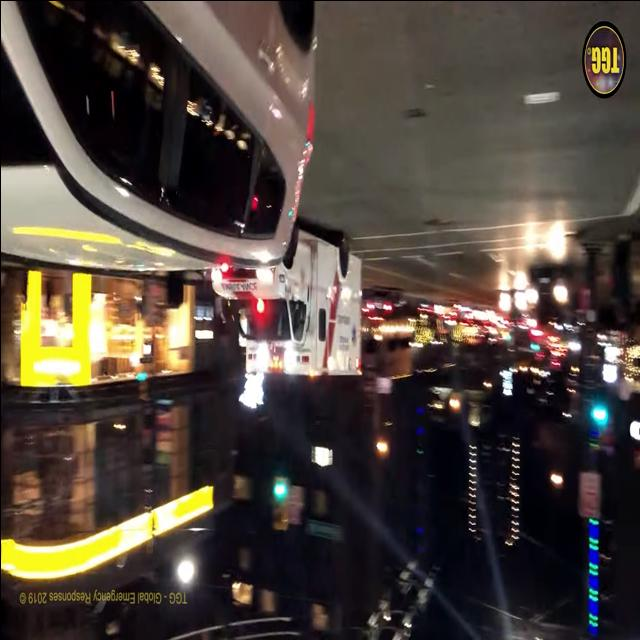emergency-vehicles: (212, 210, 388, 388)
